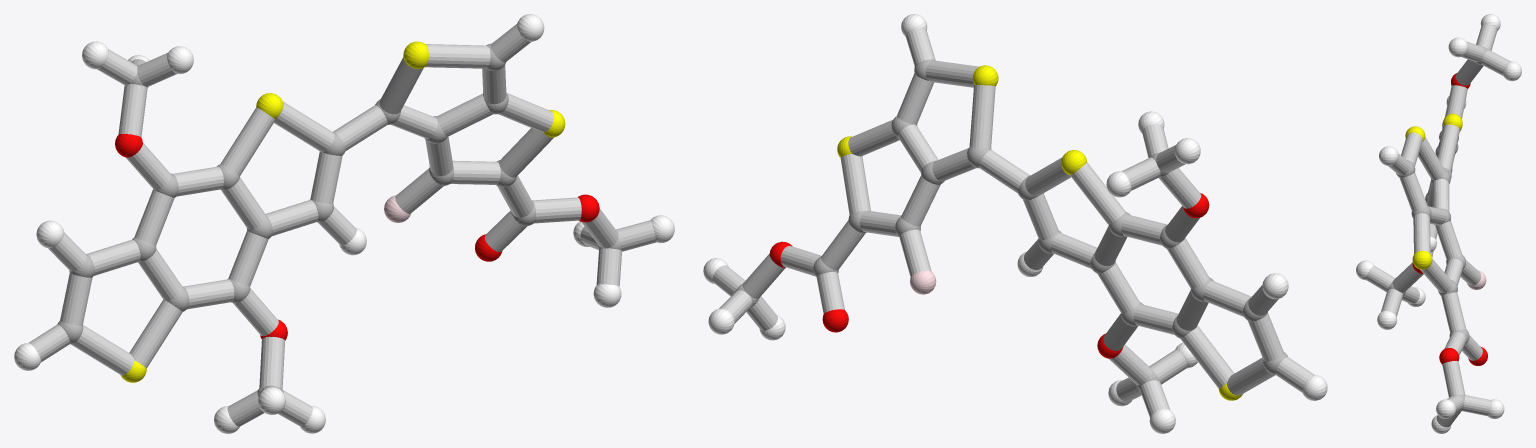
Rendered from color.glb.
3 views of the same model, side by side, from view 1: azimuth 30°, elevation 25°; view 2: azimuth 150°, elevation 25°; view 3: azimuth 270°, elevation 25° (orthographic). The views are drawn at different scales.
Visible parts, largest first — view 1: grp15205, grp8689, grp1, grp7241, grp13395; view 2: grp15205, grp8689, grp1, grp13395, grp7241; view 3: grp15205, grp8689, grp1, grp7241, grp13395.
Boxes of the visible parts, x1,y1,x2,y2 form: grp15205: (29,24,656,426); grp8689: (14,14,674,433); grp1: (57,43,621,396); grp7241: (120,41,565,382); grp13395: (115,134,599,340); grp15205: (712,29,1314,417); grp8689: (703,14,1327,433); grp1: (735,59,1287,390); grp13395: (769,193,1209,358); grp7241: (837,65,1242,400); grp15205: (1366,24,1510,427); grp8689: (1356,14,1521,433); grp1: (1388,46,1489,411); grp7241: (1405,113,1462,269); grp13395: (1412,73,1487,365).
Bounding box in the file's own units: 16.29 × 8.77 × 4.99.
